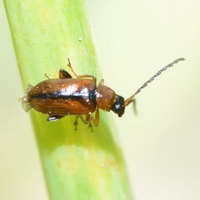insect: (19, 58, 184, 131)
